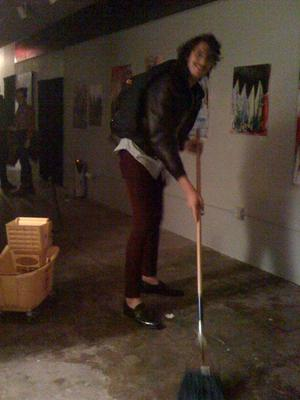person: (110, 34, 223, 333)
